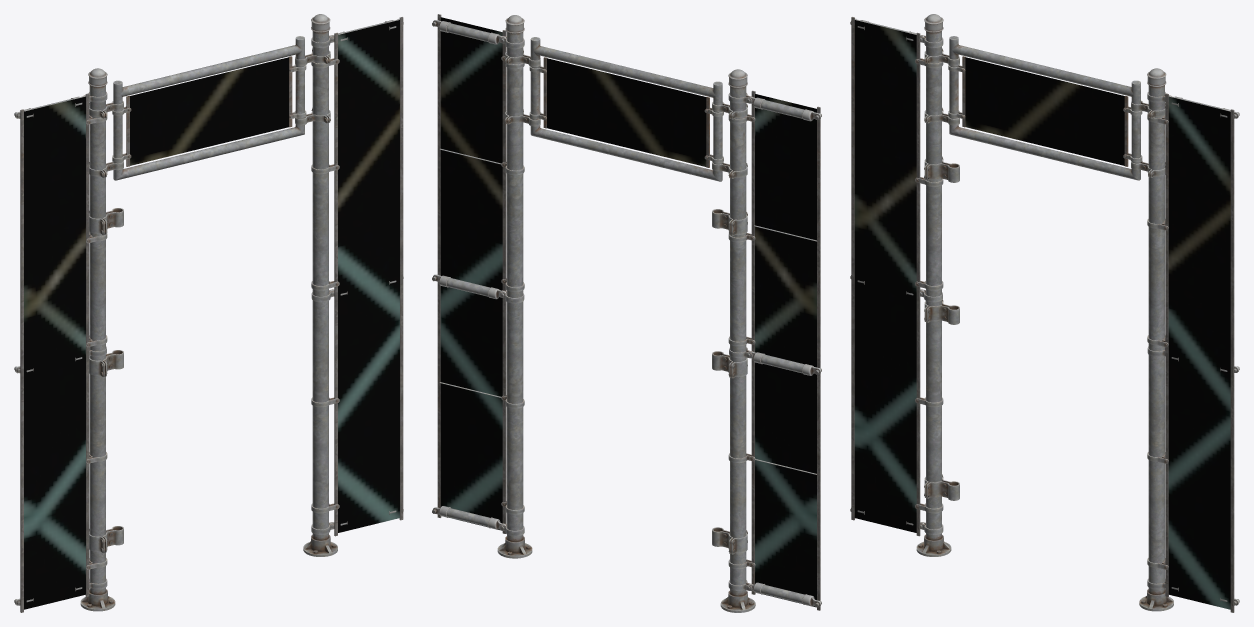
The model's file is SM_PH_cit_kapi.fbx.
The picture shows the model from 3 angles, left to right: view 1: azimuth 30°, elevation 25°; view 2: azimuth 150°, elevation 25°; view 3: azimuth 330°, elevation 25°; orthographic projection.
Parts seen in each view (by area): view 1: SM_PH_cit_kapi; view 2: SM_PH_cit_kapi; view 3: SM_PH_cit_kapi.
Boxes of the visible parts, bbox=[...] form: SM_PH_cit_kapi: bbox=[14, 14, 403, 612]; SM_PH_cit_kapi: bbox=[432, 14, 821, 612]; SM_PH_cit_kapi: bbox=[850, 14, 1239, 612].
Size of the model in its own units: 1.91 by 0.1483 by 2.52.
Materials: 2 (2 with a texture image).
